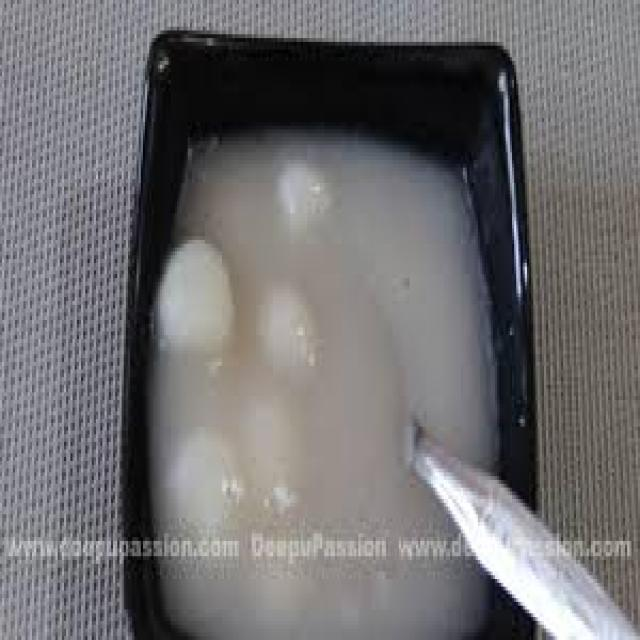paal kolukattai: (129, 146, 467, 635)
